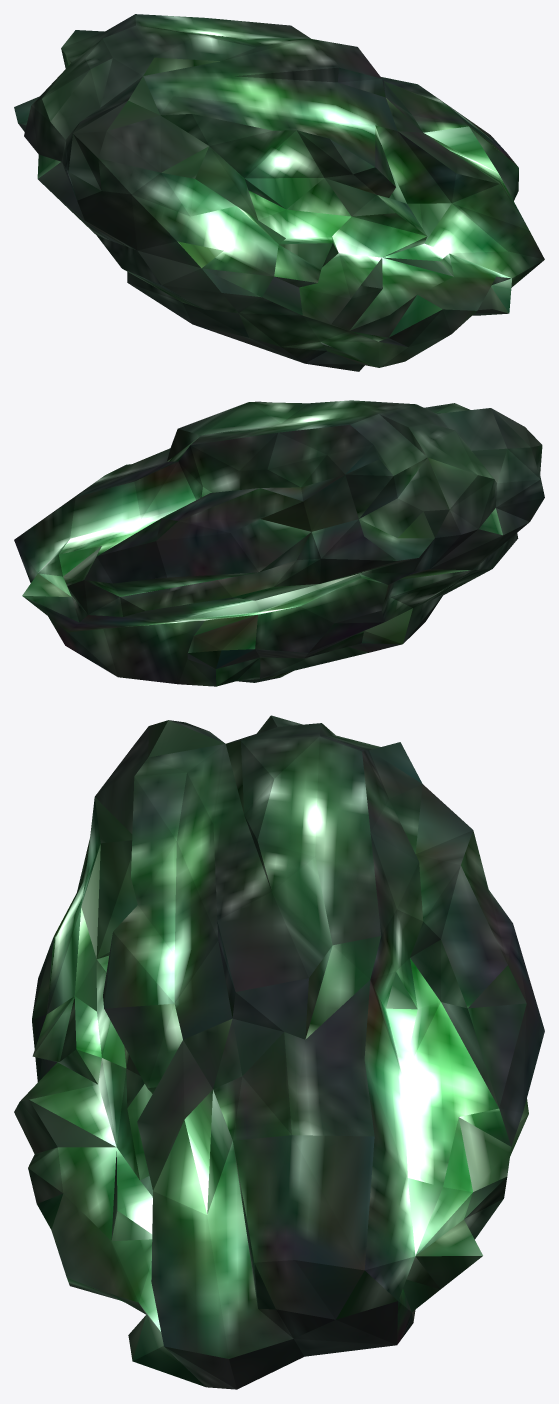
File: meteor_green_flow_shard_02.glb
3 views of the same model, one above another, from view 1: azimuth 30°, elevation 25°; view 2: azimuth 150°, elevation 25°; view 3: azimuth 270°, elevation 25° (orthographic). The views are drawn at different scales.
Parts seen in each view (by area): view 1: Mesh_0.002; view 2: Mesh_0.002; view 3: Mesh_0.002.
Part boxes in pixels (x1,y1,x2,y2): Mesh_0.002: (14,14,544,371); Mesh_0.002: (14,400,544,686); Mesh_0.002: (14,715,544,1389).
Bounding box in the file's own units: 1.89 × 1.23 × 1.3.
1 material, 1 textured.
